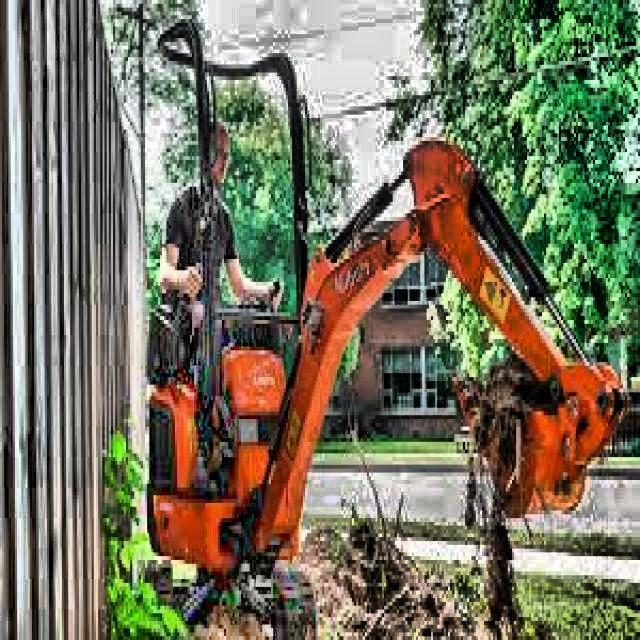bull_dozer/loader/grader: (140, 7, 631, 640)
person: (157, 116, 286, 489)
